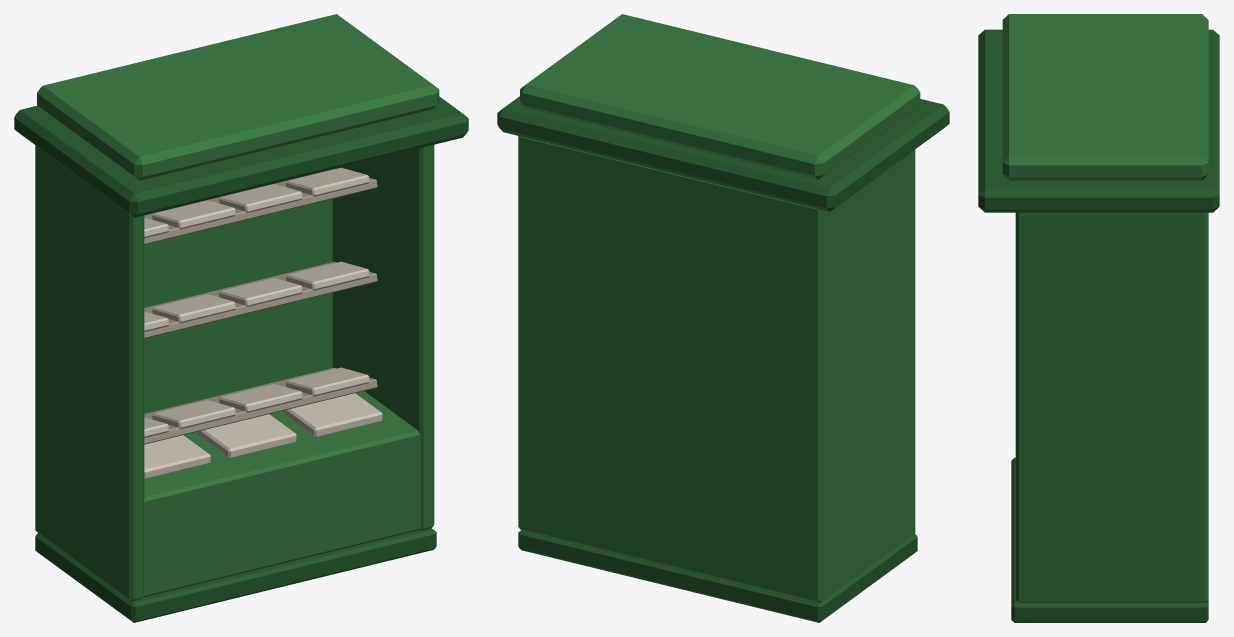
Rendered from kiosk.glb.
The picture shows the model from 3 angles, left to right: view 1: azimuth 30°, elevation 25°; view 2: azimuth 150°, elevation 25°; view 3: azimuth 270°, elevation 25°; orthographic projection.
Parts seen in each view (by area): view 1: kiosk; view 2: kiosk; view 3: kiosk.
Part boxes in pixels (x1,y1,x2,y2): kiosk: (14, 14, 468, 622); kiosk: (497, 14, 949, 622); kiosk: (978, 14, 1219, 622).
Size of the model in its own units: 1.78 by 2.34 by 1.1.
